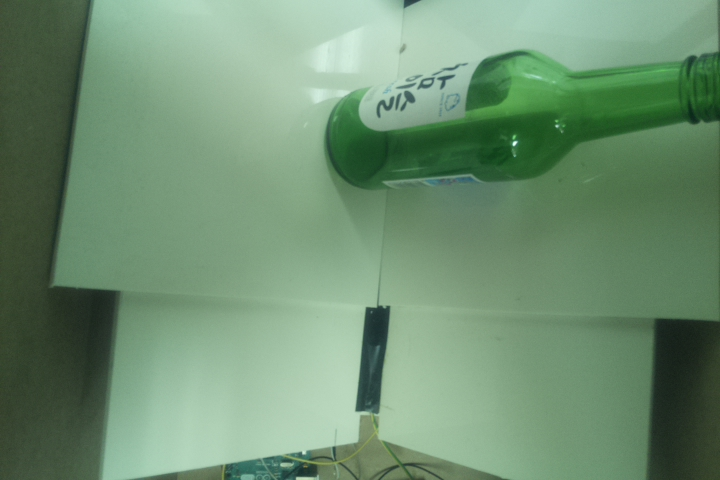soju: (326, 48, 720, 193)
